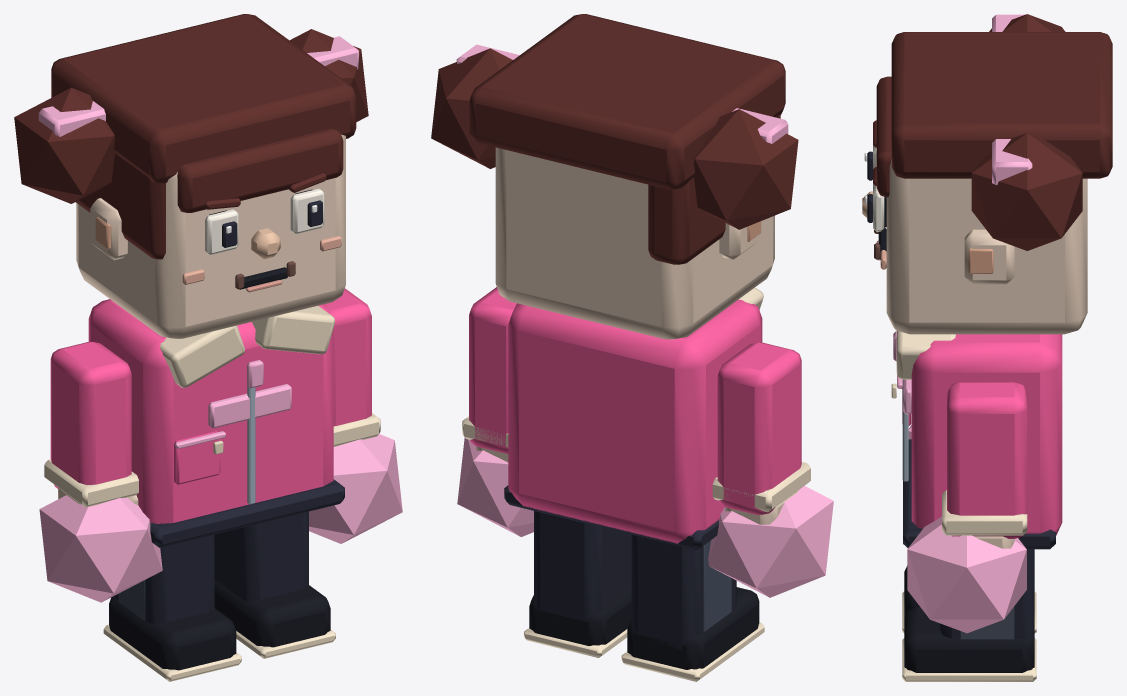
The model's file is pochita.glb.
3 renders of one model, left to right at view 1: azimuth 30°, elevation 25°; view 2: azimuth 150°, elevation 25°; view 3: azimuth 270°, elevation 25°, orthographic. The views are drawn at different scales.
Visible parts, largest first — view 1: Batch_Head_CITY / #5c2b27, Batch_Body_CITY / #ff5fa2, Batch_Head_CITY / #f1d9c5.007, Arm_L_sleeve, Batch_Arm_L_CITY / #ffb6dd, Leg_R_trouser, Batch_Arm_R_CITY / #ffb6dd, Batch_Body_CITY / cream.007, Leg_L_shoe, Leg_R_shoe, Leg_L_trouser, Arm_R_sleeve (+12 smaller); view 2: Batch_Head_CITY / #5c2b27, Batch_Body_CITY / #ff5fa2, Batch_Head_CITY / #f1d9c5.007, Arm_L_sleeve, Batch_Arm_L_CITY / #ffb6dd, Leg_R_trouser, Leg_L_trouser, Arm_R_sleeve, Leg_L_shoe, Batch_Arm_R_CITY / #ffb6dd, Leg_R_shoe, Batch_Leg_L_CITY / #475061.007 (+5 smaller); view 3: Batch_Head_CITY / #5c2b27, Batch_Head_CITY / #f1d9c5.007, Batch_Body_CITY / #ff5fa2, Arm_R_sleeve, Batch_Arm_R_CITY / #ffb6dd, Leg_R_shoe, Batch_Arm_R_CITY / cream.007, Leg_R_trouser, Batch_Leg_R_CITY / cream.007, Batch_Body_CITY / charcoal.007, Batch_Body_CITY / cream.007, Batch_Head_CITY / #ffb6dd (+5 smaller).
Boxes of the visible parts, x1,y1,x2,y2 form: Batch_Head_CITY / #5c2b27: (14, 14, 368, 259); Batch_Body_CITY / #ff5fa2: (88, 299, 333, 523); Batch_Head_CITY / #f1d9c5.007: (76, 134, 345, 338); Arm_L_sleeve: (50, 342, 131, 488); Batch_Arm_L_CITY / #ffb6dd: (39, 495, 162, 602); Leg_R_trouser: (214, 511, 308, 601); Batch_Arm_R_CITY / #ffb6dd: (309, 434, 402, 543); Batch_Body_CITY / cream.007: (160, 306, 334, 454); Leg_L_shoe: (109, 596, 236, 670); Leg_R_shoe: (214, 579, 330, 647); Leg_L_trouser: (114, 534, 214, 624); Arm_R_sleeve: (325, 288, 371, 426); Batch_Head_CITY / #5c2b27: (431, 14, 798, 264); Batch_Body_CITY / #ff5fa2: (508, 299, 762, 543); Batch_Head_CITY / #f1d9c5.007: (495, 147, 774, 339); Arm_L_sleeve: (717, 342, 801, 514); Batch_Arm_L_CITY / #ffb6dd: (708, 485, 833, 597); Leg_R_trouser: (534, 511, 631, 623); Leg_L_trouser: (631, 535, 736, 649); Arm_R_sleeve: (469, 287, 516, 453); Leg_L_shoe: (627, 587, 759, 669); Batch_Arm_R_CITY / #ffb6dd: (457, 437, 533, 536); Leg_R_shoe: (529, 589, 631, 645); Batch_Leg_L_CITY / #475061.007: (703, 540, 731, 631); Batch_Head_CITY / #5c2b27: (873, 14, 1112, 250); Batch_Head_CITY / #f1d9c5.007: (886, 159, 1087, 334); Batch_Body_CITY / #ff5fa2: (902, 334, 1062, 535); Arm_R_sleeve: (947, 382, 1027, 538); Batch_Arm_R_CITY / #ffb6dd: (907, 516, 1026, 633); Leg_R_shoe: (904, 607, 1034, 672); Batch_Arm_R_CITY / cream.007: (942, 490, 1027, 535); Leg_R_trouser: (939, 549, 1034, 641); Batch_Leg_R_CITY / cream.007: (902, 638, 1036, 681); Batch_Body_CITY / charcoal.007: (903, 439, 1055, 549); Batch_Body_CITY / cream.007: (891, 330, 956, 398); Batch_Head_CITY / #ffb6dd: (992, 14, 1032, 185).
Size of the model in its own units: 0.8104 by 1.25 by 0.4985.
